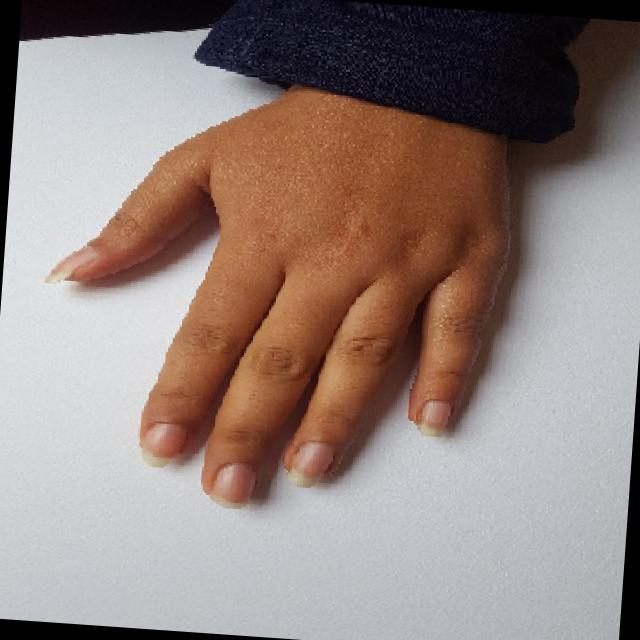Nail: (286, 441, 334, 486), (209, 463, 255, 508), (45, 245, 98, 283), (142, 422, 187, 466), (418, 400, 451, 435)
